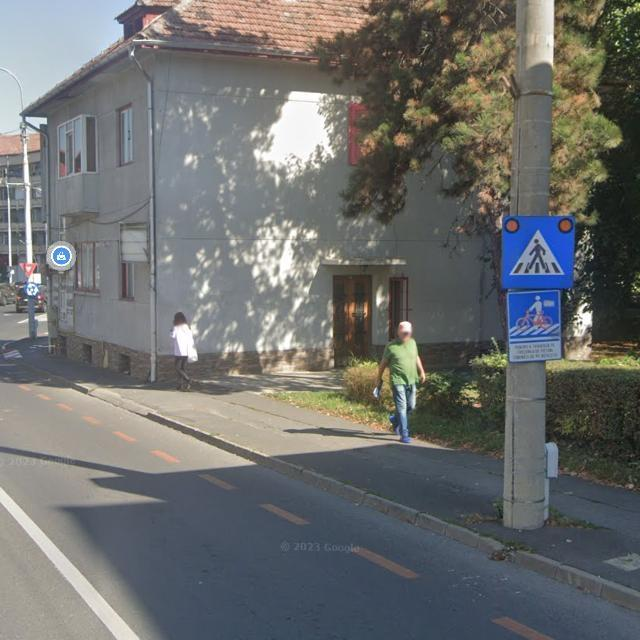info_crosswalk: (499, 215, 576, 291)
prio_give_way: (19, 262, 38, 279)
